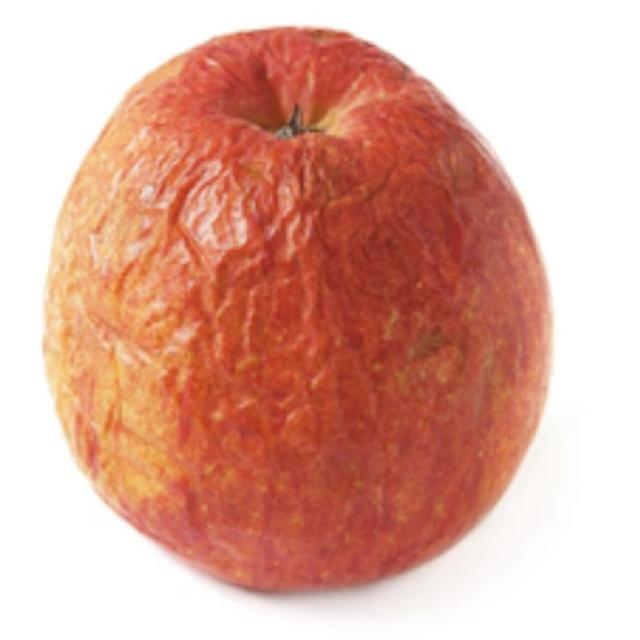Rotten: (78, 43, 547, 597)
